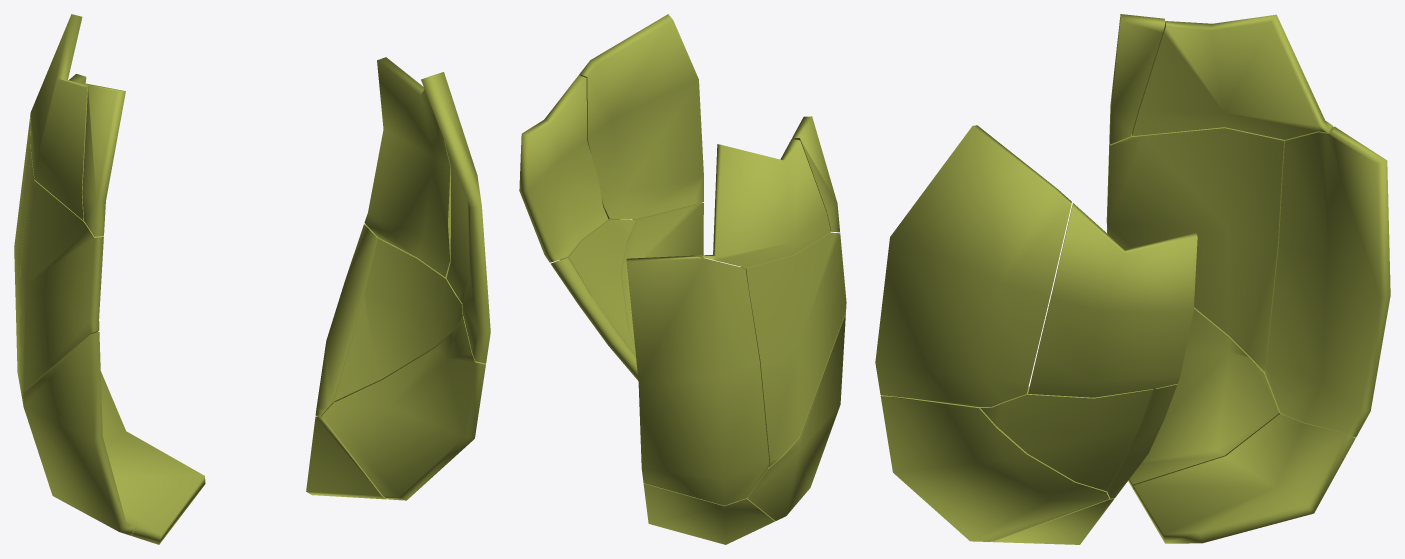
Rendered from Plaque_18.fbx.
The picture shows the model from 3 angles, left to right: view 1: azimuth 30°, elevation 25°; view 2: azimuth 150°, elevation 25°; view 3: azimuth 270°, elevation 25°; orthographic projection. The views are drawn at different scales.
Parts seen in each view (by area): view 1: tooth_u.045_cell, tooth_u.046_cell.003, tooth_u.045_cell.005, tooth_u.046_cell.001, tooth_u.045_cell.003, tooth_u.045_cell.004, tooth_u.046_cell, tooth_u.046_cell.005, tooth_u.046_cell.002, tooth_u.045_cell.002, tooth_u.045_cell.001, tooth_u.046_cell.004; view 2: tooth_u.046_cell.004, tooth_u.045_cell.004, tooth_u.046_cell.003, tooth_u.046_cell.005, tooth_u.045_cell.005, tooth_u.046_cell.001, tooth_u.046_cell, tooth_u.045_cell.003, tooth_u.045_cell, tooth_u.045_cell.002, tooth_u.046_cell.002; view 3: tooth_u.045_cell.004, tooth_u.046_cell.004, tooth_u.046_cell.003, tooth_u.045_cell.005, tooth_u.045_cell, tooth_u.046_cell.005, tooth_u.046_cell, tooth_u.046_cell.001, tooth_u.045_cell.003, tooth_u.046_cell.002, tooth_u.045_cell.001, tooth_u.045_cell.002.
Part boxes in pixels (x1,y1,x2,y2): tooth_u.045_cell: (322, 316, 485, 500); tooth_u.046_cell.003: (20, 152, 103, 398); tooth_u.045_cell.005: (364, 57, 450, 277); tooth_u.046_cell.001: (22, 332, 135, 535); tooth_u.045_cell.003: (334, 238, 463, 401); tooth_u.045_cell.004: (421, 72, 490, 363); tooth_u.046_cell: (100, 371, 205, 544); tooth_u.046_cell.005: (30, 14, 95, 220); tooth_u.046_cell.002: (82, 85, 125, 236); tooth_u.045_cell.002: (315, 224, 379, 417); tooth_u.045_cell.001: (306, 416, 386, 499); tooth_u.046_cell.004: (14, 74, 86, 392); tooth_u.046_cell.004: (626, 255, 769, 505); tooth_u.045_cell.004: (579, 14, 703, 219); tooth_u.046_cell.003: (741, 232, 846, 467); tooth_u.046_cell.005: (698, 139, 830, 267); tooth_u.045_cell.005: (519, 75, 608, 262); tooth_u.046_cell.001: (747, 313, 845, 520); tooth_u.046_cell: (643, 483, 774, 544); tooth_u.045_cell.003: (560, 219, 636, 356); tooth_u.045_cell: (621, 202, 703, 344); tooth_u.045_cell.002: (551, 258, 638, 380); tooth_u.046_cell.002: (792, 116, 839, 232); tooth_u.045_cell.004: (875, 125, 1071, 406); tooth_u.046_cell.004: (1265, 126, 1390, 437); tooth_u.046_cell.003: (1106, 127, 1285, 371); tooth_u.045_cell.005: (1028, 203, 1197, 397); tooth_u.045_cell: (880, 395, 1109, 541); tooth_u.046_cell.005: (1132, 14, 1332, 139); tooth_u.046_cell: (1133, 414, 1355, 543); tooth_u.046_cell.001: (1128, 307, 1283, 489); tooth_u.045_cell.003: (980, 386, 1152, 491); tooth_u.046_cell.002: (1109, 14, 1164, 144); tooth_u.045_cell.001: (992, 491, 1114, 544); tooth_u.045_cell.002: (1107, 384, 1177, 498).
Size of the model in its own units: 72.12 by 96.28 by 87.75.
